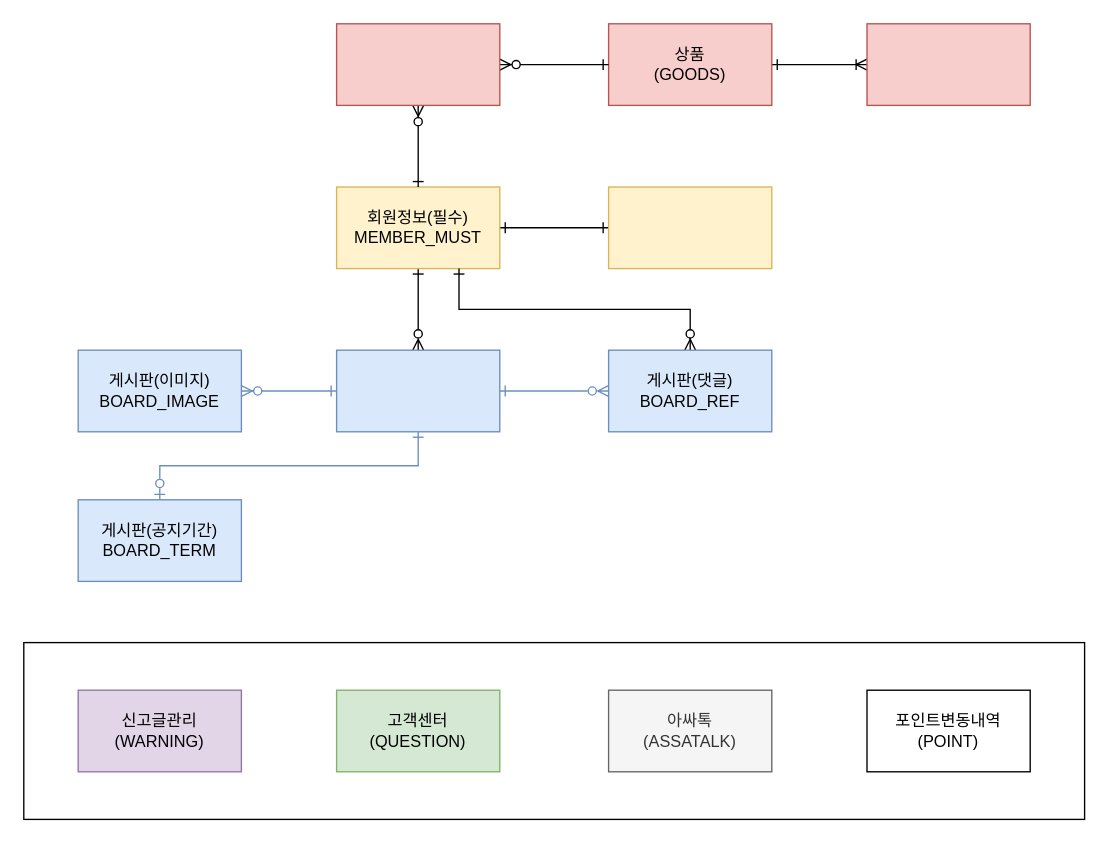
Image size: 1108x843. Some labels were removed from this diagram. Here are the shapes that lost their labels. From the top down, the centre of each, then its label:
At point 417,63: "주문정보 (ORDER)".
At point 948,63: "상품이미지 (GOODS_IMAGE)".
At point 689,227: "회원정보(선택) MEMBER_CHOICE".
At point 417,390: "게시판(게시글) BOARD".
